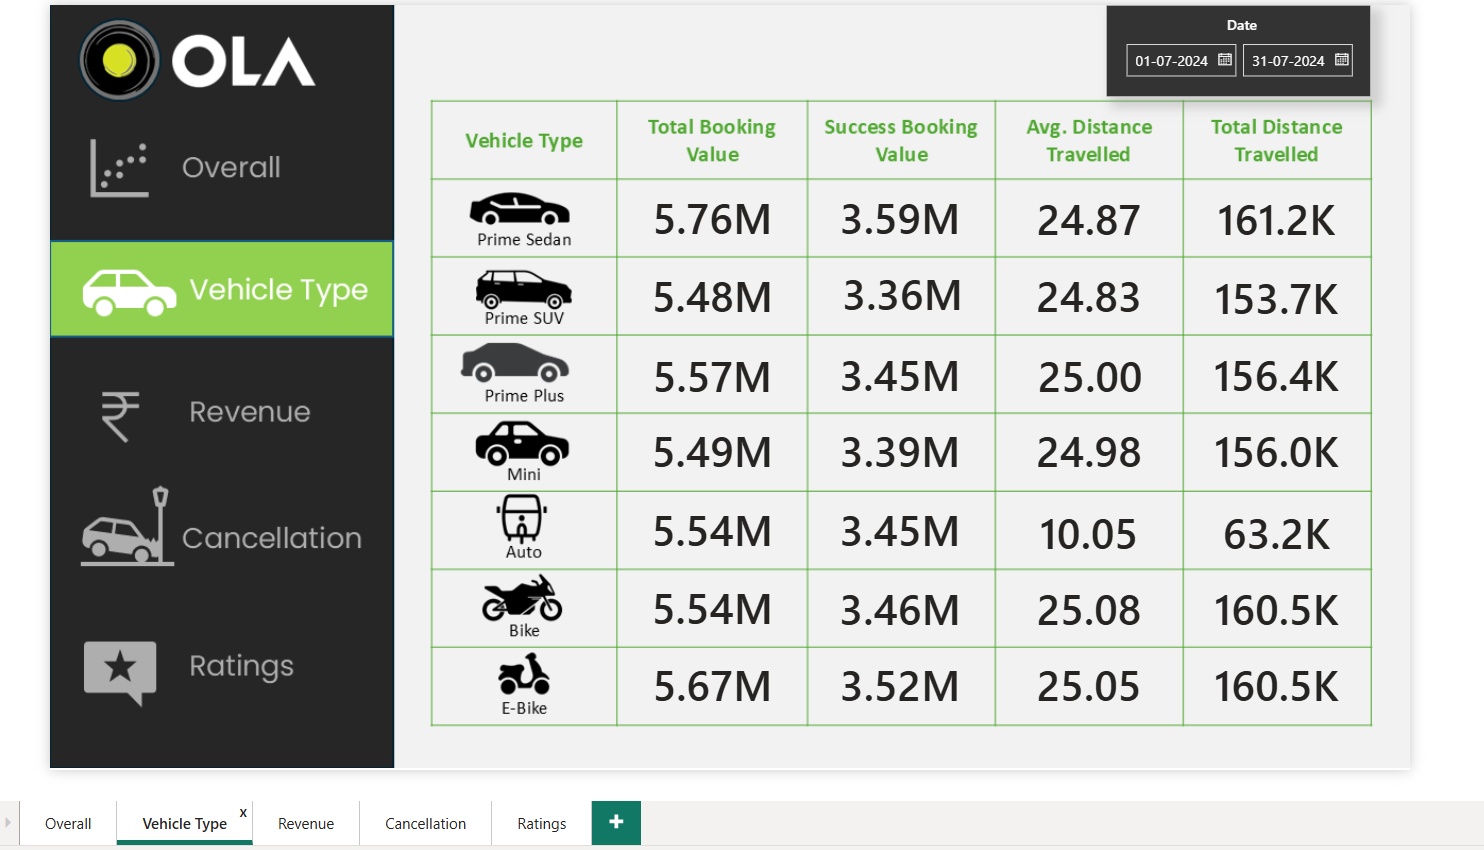

What the dashboard file says about the page in this screenshot:
{"tool":"powerbi","page":{"name":"Vehicle Type","canvas":[1280,720],"ordinal":1},"visuals":[{"type":"actionButton","box":[0,335.4,324.5,94.1],"z":0},{"type":"actionButton","box":[0,454.8,324.5,94.1],"z":1000},{"type":"actionButton","box":[0,576.7,324.5,94.1],"z":2000},{"type":"actionButton","box":[1.2,106.2,324.5,94.1],"z":3000},{"type":"cardVisual","fields":{"Data":["Sum(Ola_Data.Booking_Value)"]},"box":[533.8,161.9,179.8,71.4],"z":4000},{"type":"cardVisual","fields":{"Data":["Sum(Ola_Data.Booking_Value)"]},"box":[533.8,236,179.8,71.4],"z":5000},{"type":"cardVisual","fields":{"Data":["Sum(Ola_Data.Booking_Value)"]},"box":[533.8,311.5,179.8,71.4],"z":6000},{"type":"cardVisual","fields":{"Data":["Sum(Ola_Data.Booking_Value)"]},"box":[533.8,456.9,179.8,71.4],"z":7000},{"type":"cardVisual","fields":{"Data":["Sum(Ola_Data.Booking_Value)"]},"box":[533.8,529.7,179.8,71.4],"z":8000},{"type":"cardVisual","fields":{"Data":["Sum(Ola_Data.Booking_Value)"]},"box":[533.8,602.4,179.8,71.4],"z":9000},{"type":"cardVisual","fields":{"Data":["Sum(Ola_Data.Booking_Value)"]},"box":[533.8,382.8,179.8,71.4],"z":10000},{"type":"cardVisual","fields":{"Data":["Sum(Ola_Data.Booking_Value)"]},"box":[712.2,161.9,177,71.4],"z":11000},{"type":"cardVisual","fields":{"Data":["Sum(Ola_Data.Booking_Value)"]},"box":[713.6,234.6,177,71.4],"z":12000},{"type":"cardVisual","fields":{"Data":["Sum(Ola_Data.Booking_Value)"]},"box":[712.2,310.1,177,71.4],"z":13000},{"type":"cardVisual","fields":{"Data":["Sum(Ola_Data.Booking_Value)"]},"box":[712.2,456.9,177,71.4],"z":14000},{"type":"cardVisual","fields":{"Data":["Sum(Ola_Data.Booking_Value)"]},"box":[712.2,531,177,71.4],"z":15000},{"type":"cardVisual","fields":{"Data":["Sum(Ola_Data.Booking_Value)"]},"box":[712.2,602.4,177,71.4],"z":16000},{"type":"cardVisual","fields":{"Data":["Sum(Ola_Data.Booking_Value)"]},"box":[712.2,382.8,177,71.4],"z":17000},{"type":"cardVisual","fields":{"Data":["Avg(Ola_Data.Ride_Distance)"]},"box":[889.2,163.3,177,71.4],"z":18000},{"type":"cardVisual","fields":{"Data":["Avg(Ola_Data.Ride_Distance)"]},"box":[889.2,236,177,71.4],"z":19000},{"type":"cardVisual","fields":{"Data":["Avg(Ola_Data.Ride_Distance)"]},"box":[890.6,311.5,177,71.4],"z":20000},{"type":"cardVisual","fields":{"Data":["Avg(Ola_Data.Ride_Distance)"]},"box":[889.2,382.8,177,71.4],"z":21000},{"type":"cardVisual","fields":{"Data":["Avg(Ola_Data.Ride_Distance)"]},"box":[889.2,458.3,177,71.4],"z":22000},{"type":"cardVisual","fields":{"Data":["Avg(Ola_Data.Ride_Distance)"]},"box":[889.2,531,177,71.4],"z":23000},{"type":"cardVisual","fields":{"Data":["Avg(Ola_Data.Ride_Distance)"]},"box":[889.2,602.4,177,71.4],"z":24000},{"type":"cardVisual","fields":{"Data":["Sum(Ola_Data.Ride_Distance)"]},"box":[1066.2,163.3,177,71.4],"z":25000},{"type":"cardVisual","fields":{"Data":["Sum(Ola_Data.Ride_Distance)"]},"box":[1066.2,237.4,177,71.4],"z":26000},{"type":"cardVisual","fields":{"Data":["Sum(Ola_Data.Ride_Distance)"]},"box":[1066.2,310.1,177,71.4],"z":27000},{"type":"cardVisual","fields":{"Data":["Sum(Ola_Data.Ride_Distance)"]},"box":[1066.2,382.8,177,71.4],"z":28000},{"type":"cardVisual","fields":{"Data":["Sum(Ola_Data.Ride_Distance)"]},"box":[1066.2,458.3,177,71.4],"z":29000},{"type":"cardVisual","fields":{"Data":["Sum(Ola_Data.Ride_Distance)"]},"box":[1066.2,531,177,71.4],"z":30000},{"type":"cardVisual","fields":{"Data":["Sum(Ola_Data.Ride_Distance)"]},"box":[1066.2,602.4,177,71.4],"z":31000},{"type":"slicer","title":"Date","fields":{"Values":["Ola_Data.Date"]},"box":[994.2,0,248.8,86],"z":32000}]}

Visuals, with their boxes on the page's 1280x720 design canvas (x1, y1, x2, y2). These are canvas units, not pixel positions in the 1484x850 screenshot, which may show the page scaled, cropped or inside an application window:
actionButton: 0:335:324:430
actionButton: 0:455:324:549
actionButton: 0:577:324:671
actionButton: 1:106:326:200
cardVisual - Sum(Ola_Data.Booking_Value): 534:162:714:233
cardVisual - Sum(Ola_Data.Booking_Value): 534:236:714:307
cardVisual - Sum(Ola_Data.Booking_Value): 534:312:714:383
cardVisual - Sum(Ola_Data.Booking_Value): 534:457:714:528
cardVisual - Sum(Ola_Data.Booking_Value): 534:530:714:601
cardVisual - Sum(Ola_Data.Booking_Value): 534:602:714:674
cardVisual - Sum(Ola_Data.Booking_Value): 534:383:714:454
cardVisual - Sum(Ola_Data.Booking_Value): 712:162:889:233
cardVisual - Sum(Ola_Data.Booking_Value): 714:235:891:306
cardVisual - Sum(Ola_Data.Booking_Value): 712:310:889:382
cardVisual - Sum(Ola_Data.Booking_Value): 712:457:889:528
cardVisual - Sum(Ola_Data.Booking_Value): 712:531:889:602
cardVisual - Sum(Ola_Data.Booking_Value): 712:602:889:674
cardVisual - Sum(Ola_Data.Booking_Value): 712:383:889:454
cardVisual - Avg(Ola_Data.Ride_Distance): 889:163:1066:235
cardVisual - Avg(Ola_Data.Ride_Distance): 889:236:1066:307
cardVisual - Avg(Ola_Data.Ride_Distance): 891:312:1068:383
cardVisual - Avg(Ola_Data.Ride_Distance): 889:383:1066:454
cardVisual - Avg(Ola_Data.Ride_Distance): 889:458:1066:530
cardVisual - Avg(Ola_Data.Ride_Distance): 889:531:1066:602
cardVisual - Avg(Ola_Data.Ride_Distance): 889:602:1066:674
cardVisual - Sum(Ola_Data.Ride_Distance): 1066:163:1243:235
cardVisual - Sum(Ola_Data.Ride_Distance): 1066:237:1243:309
cardVisual - Sum(Ola_Data.Ride_Distance): 1066:310:1243:382
cardVisual - Sum(Ola_Data.Ride_Distance): 1066:383:1243:454
cardVisual - Sum(Ola_Data.Ride_Distance): 1066:458:1243:530
cardVisual - Sum(Ola_Data.Ride_Distance): 1066:531:1243:602
cardVisual - Sum(Ola_Data.Ride_Distance): 1066:602:1243:674
"Date" slicer: 994:0:1243:86
